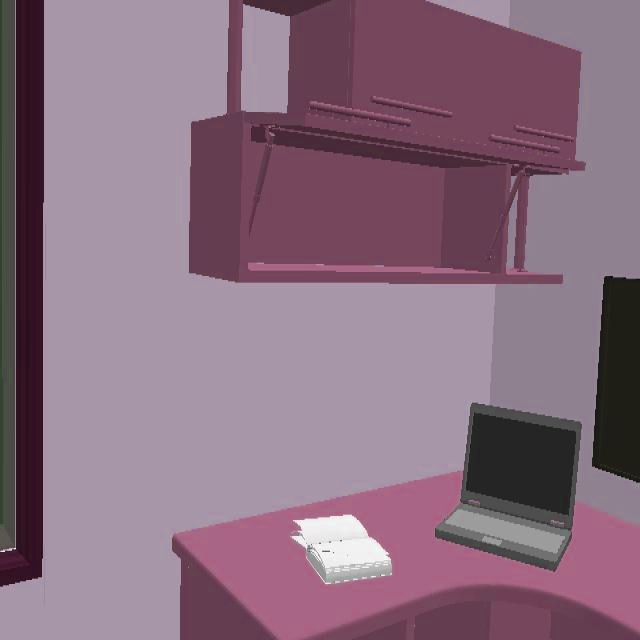book: (291, 515, 391, 583)
cabinet: (189, 0, 585, 282)
laptop: (435, 403, 581, 571)
monitor: (592, 277, 640, 482)
table: (172, 472, 640, 639)
